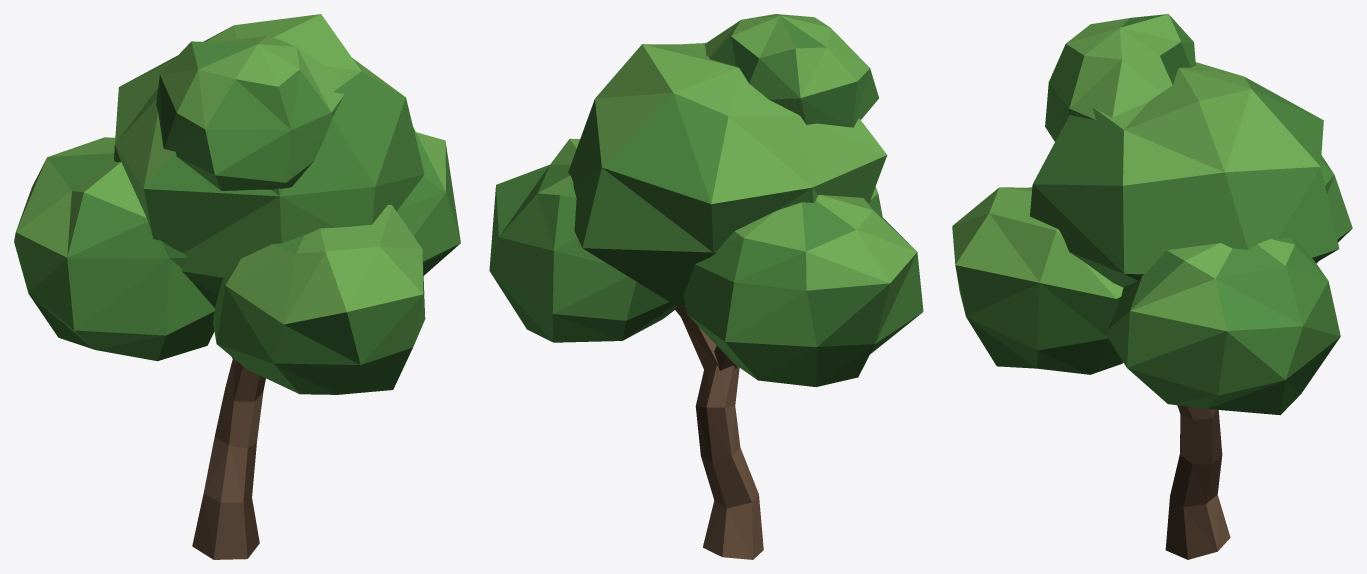
File: tree_round_a.fbx
The picture shows the model from 3 angles, left to right: view 1: azimuth 30°, elevation 25°; view 2: azimuth 150°, elevation 25°; view 3: azimuth 270°, elevation 25°; orthographic projection. The views are drawn at different scales.
Visible parts, largest first — view 1: tree_round_a; view 2: tree_round_a; view 3: tree_round_a.
Boxes of the visible parts, x1,y1,x2,y2 form: tree_round_a: (14,14,460,559); tree_round_a: (489,14,923,559); tree_round_a: (952,14,1352,559).
Bounding box in the file's own units: 5.18 × 6.28 × 4.42.
